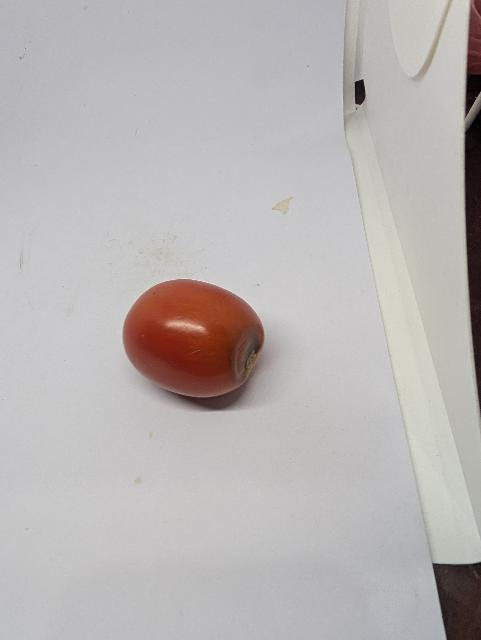defect: (121, 276, 268, 401)
